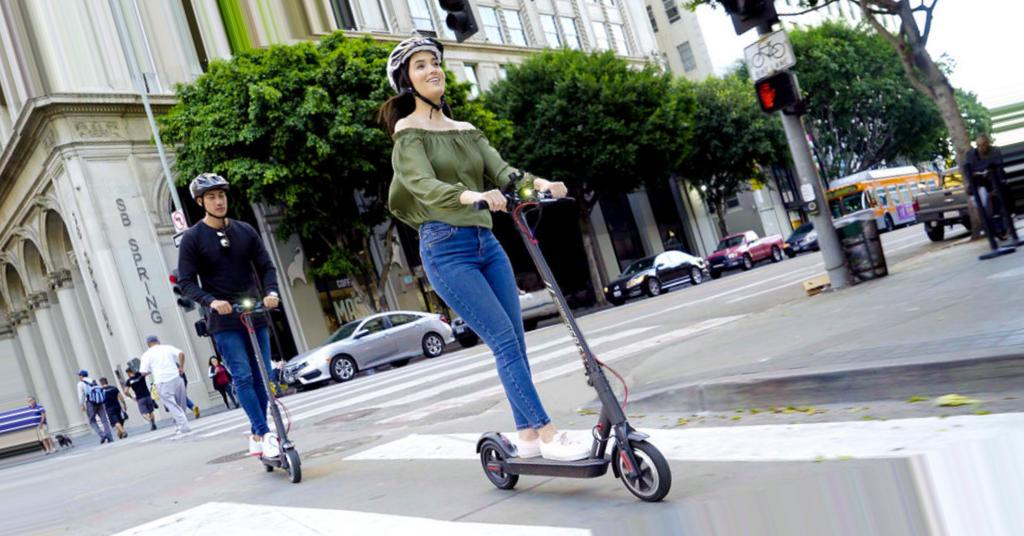scooter: (467, 170, 674, 504), (208, 296, 304, 484)
with helmet: (383, 32, 449, 103), (187, 169, 231, 221)
